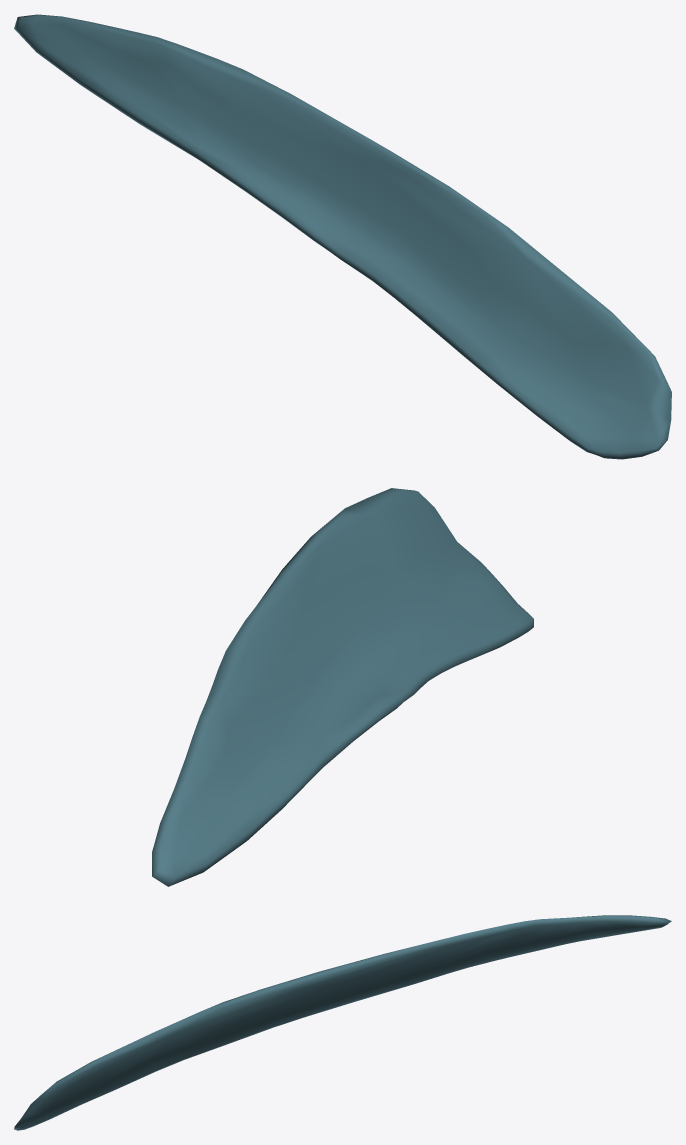
File: Opponens_digiti_minimi_foot_5th_metatarsal_left.glb
3 renders of one model, top to bottom at view 1: azimuth 30°, elevation 25°; view 2: azimuth 150°, elevation 25°; view 3: azimuth 270°, elevation 25°, orthographic. The views are drawn at different scales.
Parts seen in each view (by area): view 1: Opponens_digiti_minimi_of_foot_on_5th_metatarsal_bone.l_Gene; view 2: Opponens_digiti_minimi_of_foot_on_5th_metatarsal_bone.l_Gene; view 3: Opponens_digiti_minimi_of_foot_on_5th_metatarsal_bone.l_Gene.
Part boxes in pixels (left/top/right/bottom): Opponens_digiti_minimi_of_foot_on_5th_metatarsal_bone.l_Gene: left=14, top=14, right=671, bottom=459; Opponens_digiti_minimi_of_foot_on_5th_metatarsal_bone.l_Gene: left=152, top=488, right=533, bottom=886; Opponens_digiti_minimi_of_foot_on_5th_metatarsal_bone.l_Gene: left=14, top=915, right=671, bottom=1130.
Bounding box in the file's own units: 0.0102 × 0.0084 × 0.0314.
